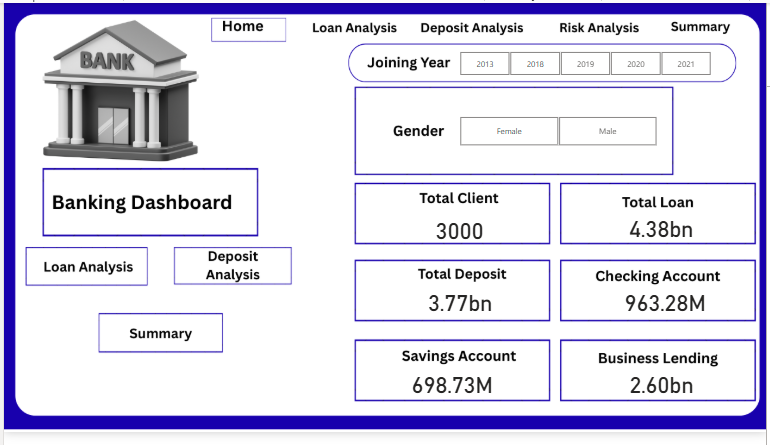

The dashboard page shown, as its layout file describes it:
{"tool":"powerbi","page":{"name":"Home","canvas":[1280,720],"ordinal":0},"visuals":[{"type":"card","fields":{"Values":["CountNonNull(Clients - Banking.Name)"]},"box":[669.3,347.5,193.1,62.9],"z":0},{"type":"slicer","fields":{"Values":["Clients - Banking.GenderId"]},"box":[740.8,184.5,379,61.5],"z":1000},{"type":"card","fields":{"Values":["Clients - Banking.Total Loan"]},"box":[1009.7,360.4,188.8,50.1],"z":2000},{"type":"card","fields":{"Values":["Clients - Banking.Total Deposit"]},"box":[700.8,484.8,131.6,51.5],"z":3000},{"type":"card","fields":{"Values":["Sum(Clients - Banking.Checking Accounts)"]},"box":[1021.1,484.8,177.3,51.5],"z":4000},{"type":"card","fields":{"Values":["Sum(Clients - Banking.Saving Accounts)"]},"box":[607.8,619.3,288.9,57.2],"z":5000},{"type":"card","fields":{"Values":["Sum(Clients - Banking.Business Lending)"]},"box":[953.9,619.3,300.3,57.2],"z":6000},{"type":"slicer","fields":{"Values":["Clients - Banking.Year of Joining"]},"box":[740.8,75.6,470.3,52.1],"z":7000},{"type":"actionButton","box":[55.3,422.4,171.5,43.9],"z":8000},{"type":"actionButton","box":[292,416.7,187.1,56.7],"z":9000},{"type":"actionButton","box":[171.5,525.8,187.1,56.7],"z":10000},{"type":"actionButton","box":[490.5,28.6,178.1,30.2],"z":11000},{"type":"actionButton","box":[682,21.8,215,42],"z":12000},{"type":"actionButton","box":[912.1,21.8,184.8,37],"z":13000},{"type":"actionButton","box":[1070,21.8,184.8,37],"z":13001}]}

Visuals, with their boxes in screenshot pixels (x1, y1, x2, y2), scaled from the page's 1280x720 canvas onto the 770x445 screenshot:
card - CountNonNull(Clients - Banking.Name): 403,215,519,254
slicer - Clients - Banking.GenderId: 446,114,674,152
card - Clients - Banking.Total Loan: 607,223,721,254
card - Clients - Banking.Total Deposit: 422,300,501,331
card - Sum(Clients - Banking.Checking Accounts): 614,300,721,331
card - Sum(Clients - Banking.Saving Accounts): 366,383,539,418
card - Sum(Clients - Banking.Business Lending): 574,383,754,418
slicer - Clients - Banking.Year of Joining: 446,47,729,79
actionButton: 33,261,136,288
actionButton: 176,258,288,293
actionButton: 103,325,216,360
actionButton: 295,18,402,36
actionButton: 410,13,540,39
actionButton: 549,13,660,36
actionButton: 644,13,755,36
